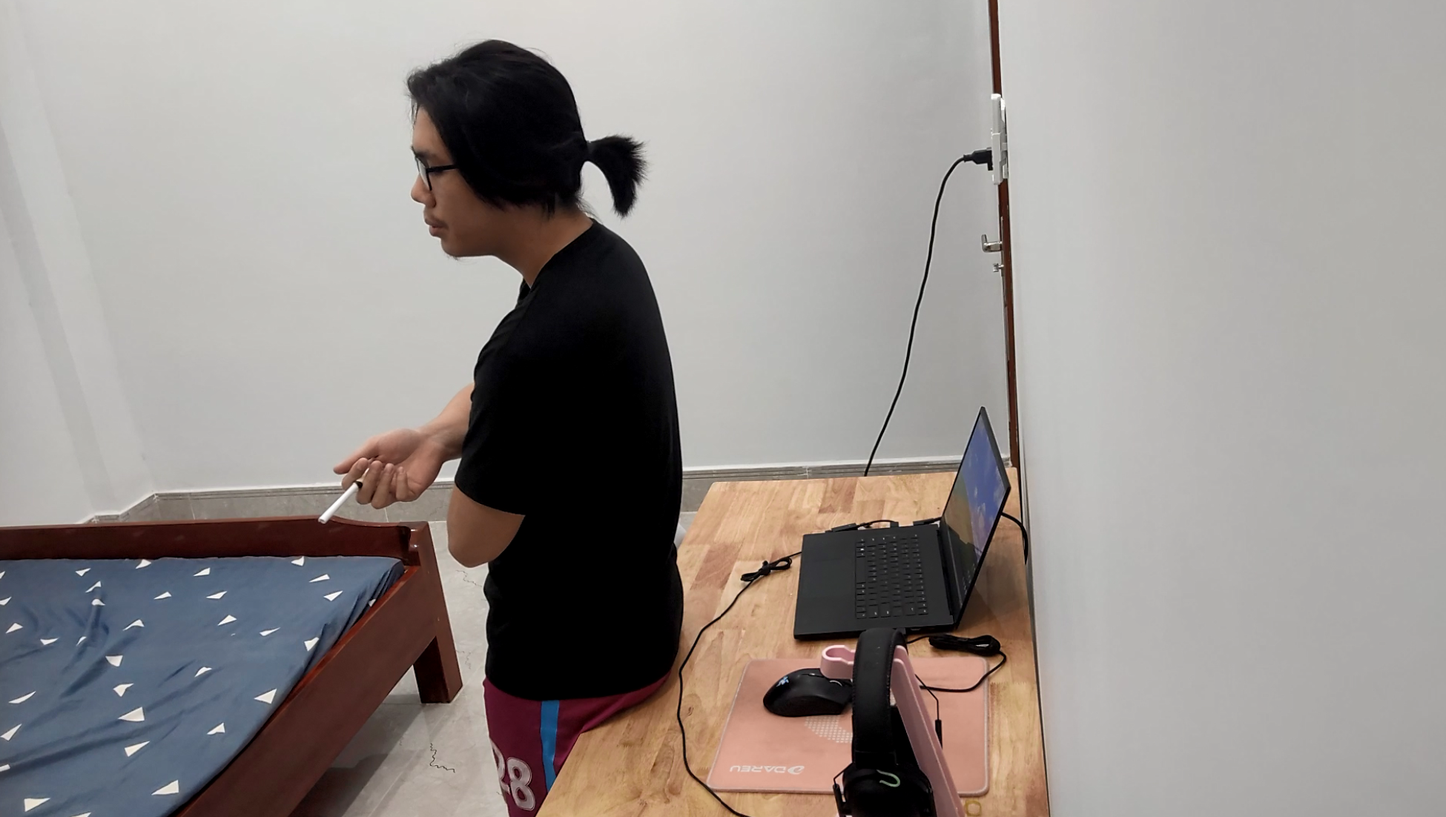cigarette: (306, 480, 372, 525)
person: (329, 18, 725, 817)
